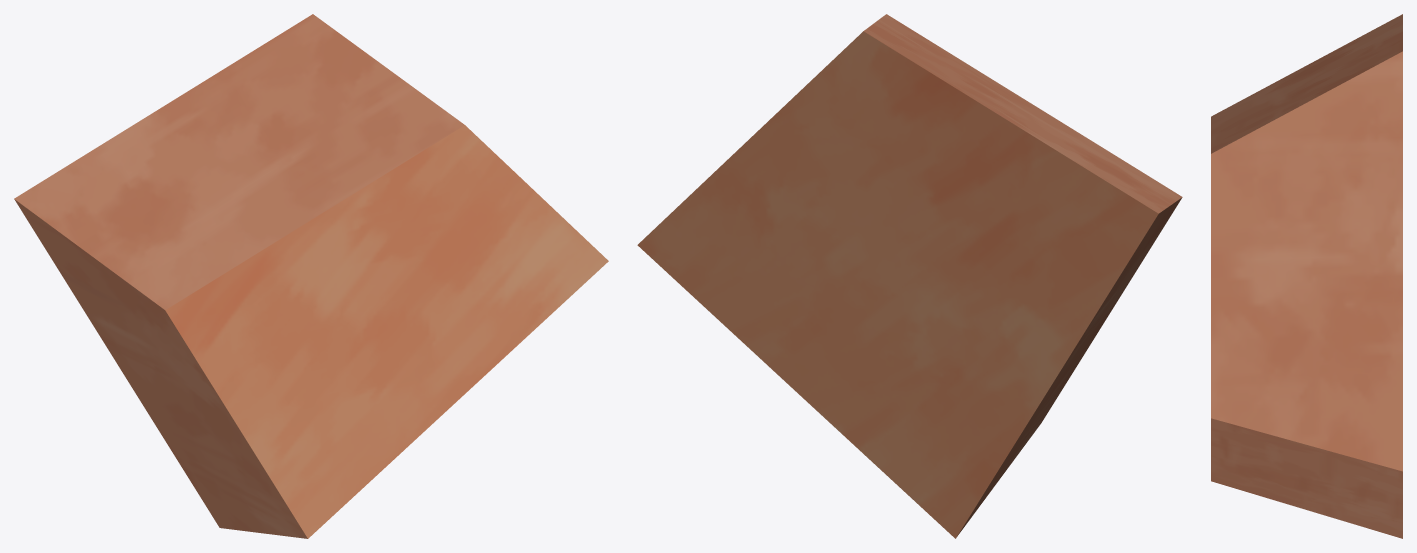
Rendered from wall2_upper_s08.fbx.
3 renders of one model, left to right at view 1: azimuth 30°, elevation 25°; view 2: azimuth 150°, elevation 25°; view 3: azimuth 270°, elevation 25°, orthographic. The views are drawn at different scales.
Visible parts, largest first — view 1: wall2_upper_s08; view 2: wall2_upper_s08; view 3: wall2_upper_s08.
Boxes of the visible parts, x1,y1,x2,y2 form: wall2_upper_s08: (14, 14, 608, 538); wall2_upper_s08: (637, 14, 1182, 538); wall2_upper_s08: (1211, 14, 1402, 538).
Bounding box in the file's own units: 3.47 × 3.09 × 1.
